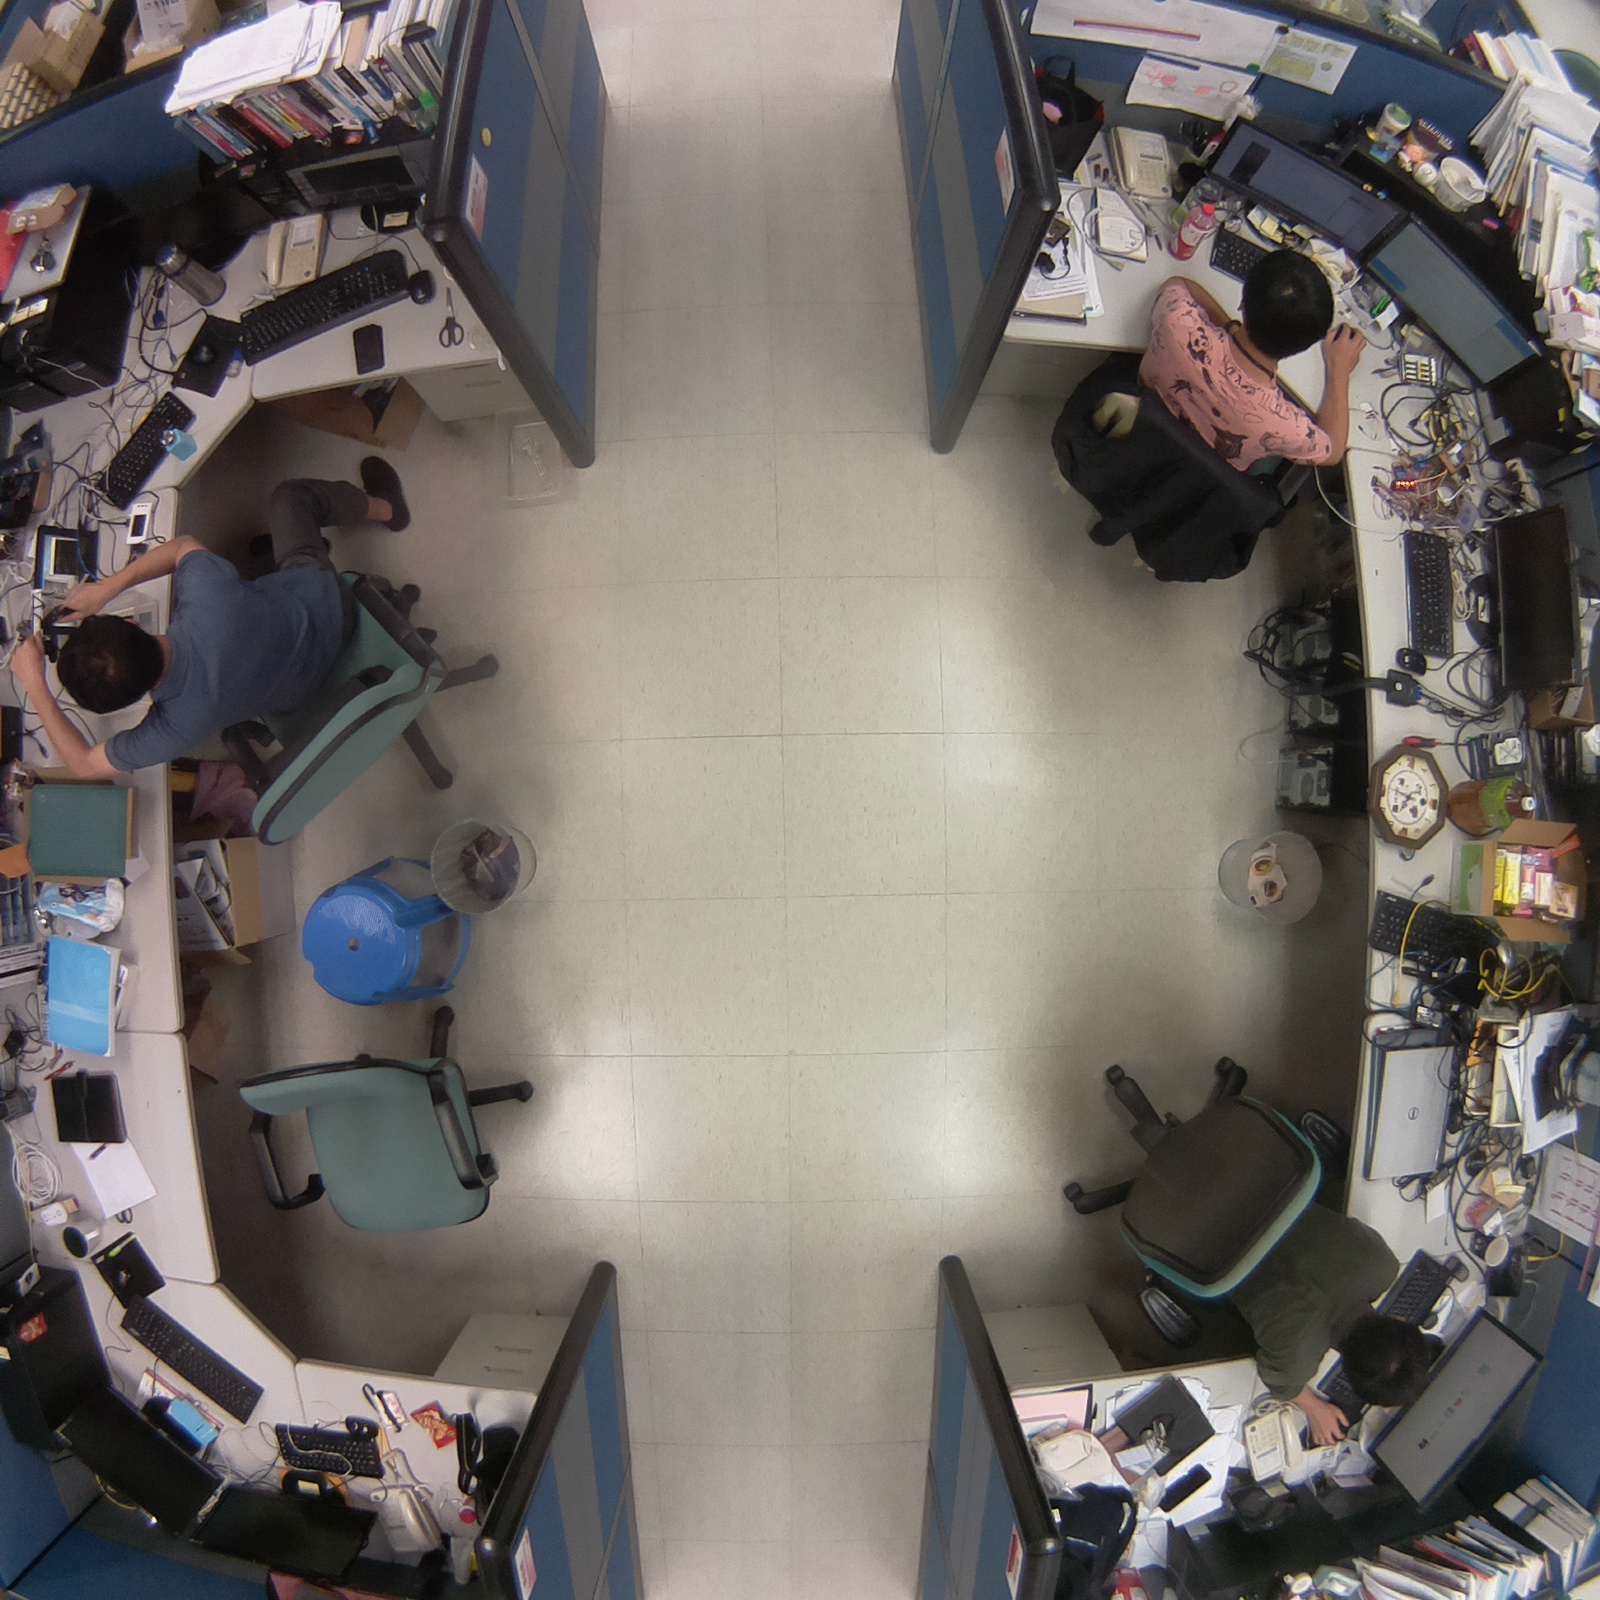chair: (1055, 1024, 1455, 1455), (224, 986, 573, 1252)
head: (50, 606, 170, 718), (1231, 241, 1339, 361), (1331, 1310, 1443, 1416)
sitting: (4, 422, 514, 868), (1029, 242, 1388, 599)
